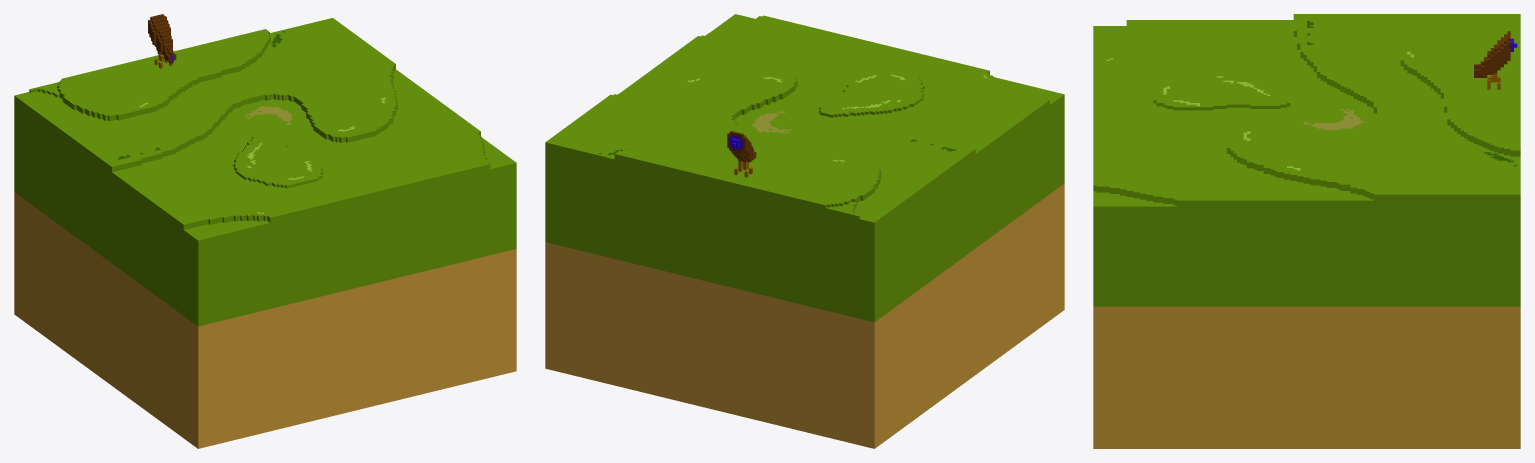
3 renders of one model, left to right at view 1: azimuth 30°, elevation 25°; view 2: azimuth 150°, elevation 25°; view 3: azimuth 270°, elevation 25°, orthographic. The views are drawn at different scales.
Parts seen in each view (by area): view 1: 9A; view 2: 9A; view 3: 9A.
Part boxes in pixels (<box>): 9A: <box>14,14,516,448</box>; 9A: <box>545,14,1064,448</box>; 9A: <box>1093,14,1520,448</box>.
Size of the model in its own units: 12.8 by 10.3 by 12.8.
Materials: 1 (1 with a texture image).
